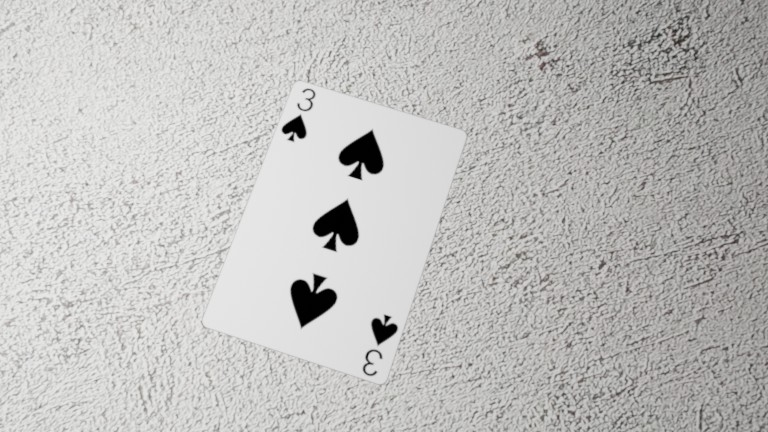3_of_spades: (140, 123, 162, 152), (110, 34, 131, 59)
